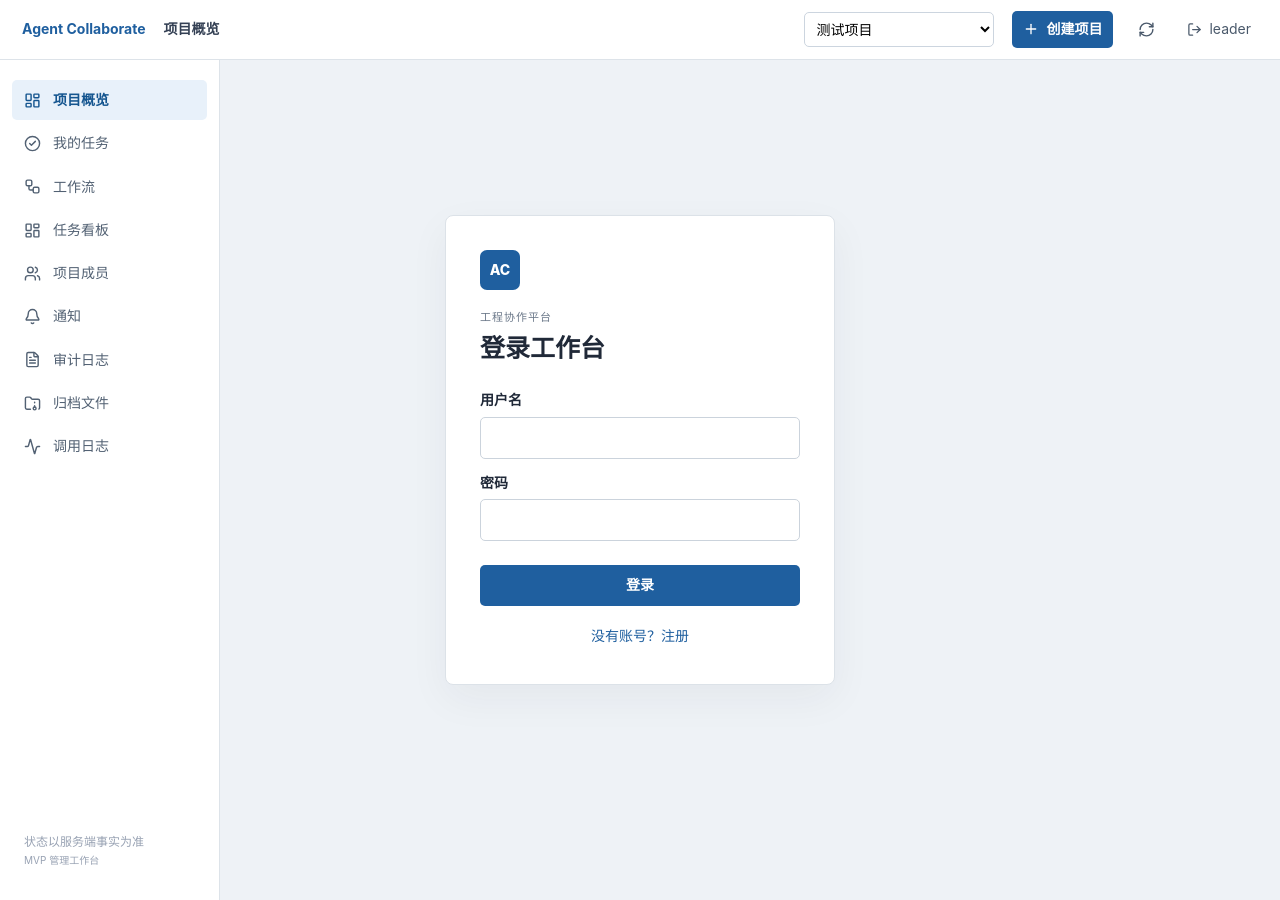
project-scoped navigation › creates a root workflow with a read-only empty parent Intent
The image size is (1280, 900).
Step 1. Click the button "工作流" → (110, 187), box [12,167,207,207]
(page scrolled)
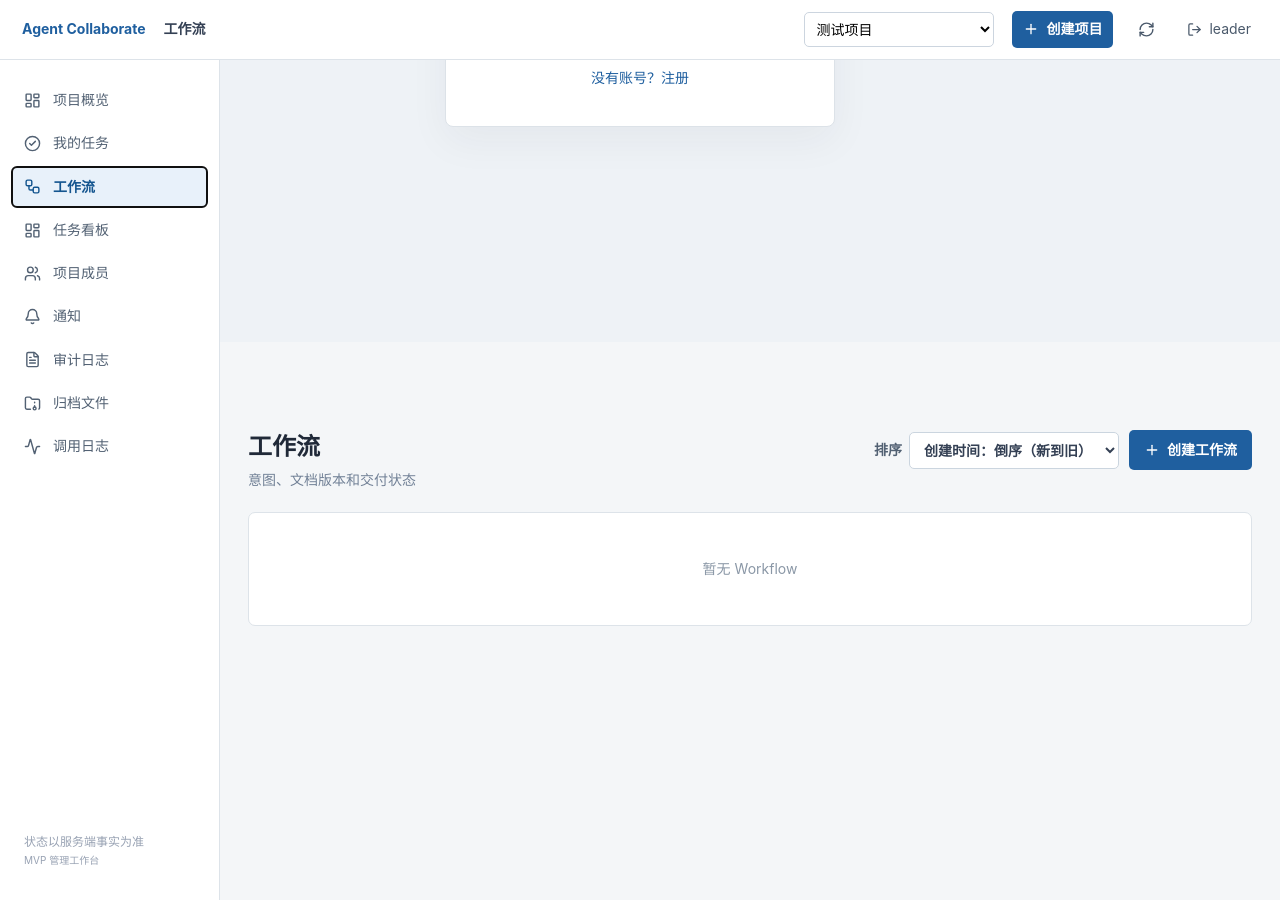
Step 2. Click the button "创建工作流" → (1190, 450), box [1129,430,1252,470]
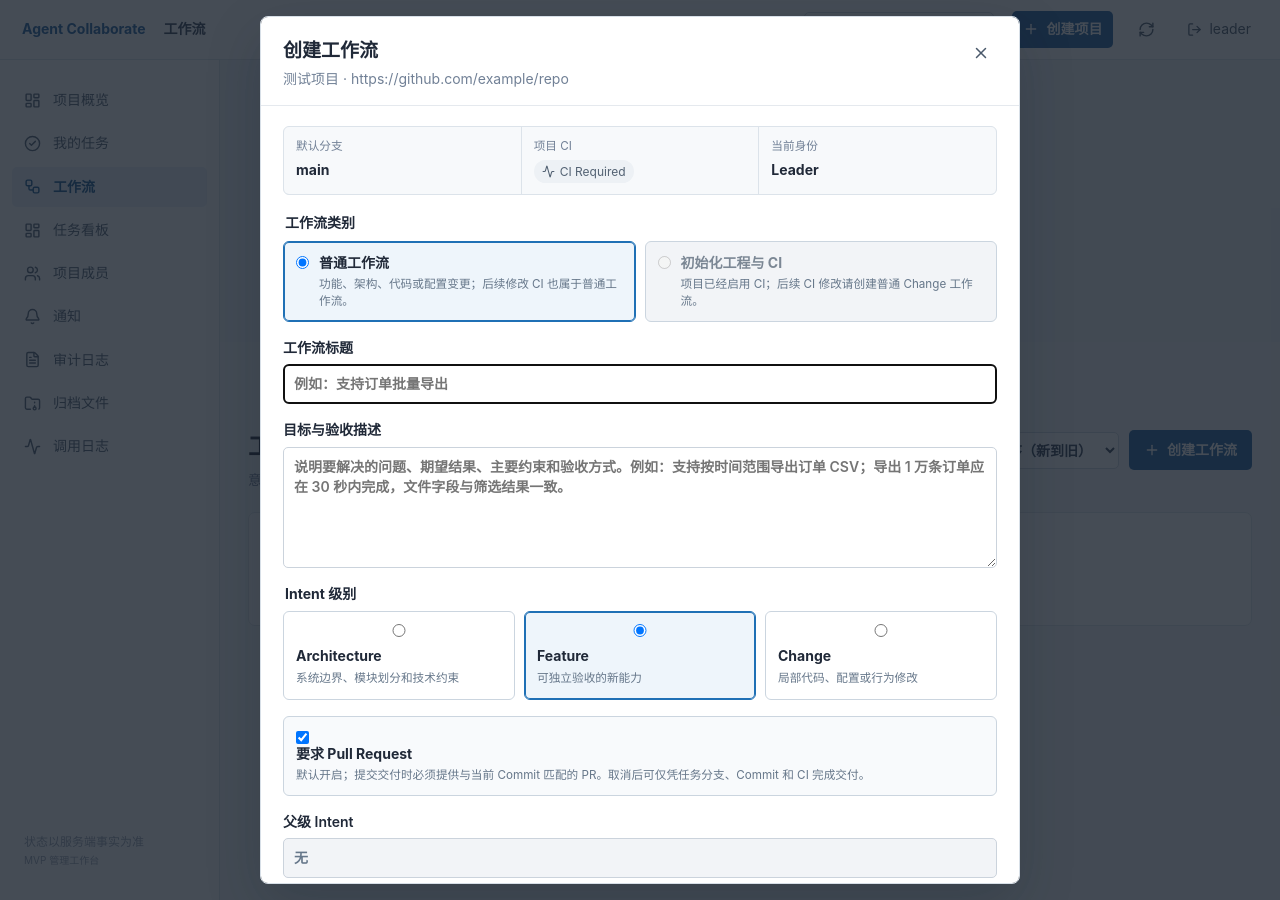
Result: the field labelled "父级 Intent" holds "无" at [283,838,997,878]
Step 3. Click the radio button labelled "Architecture 系统边界、模块划分和技术约束" → (399, 631), box [296,624,502,637]
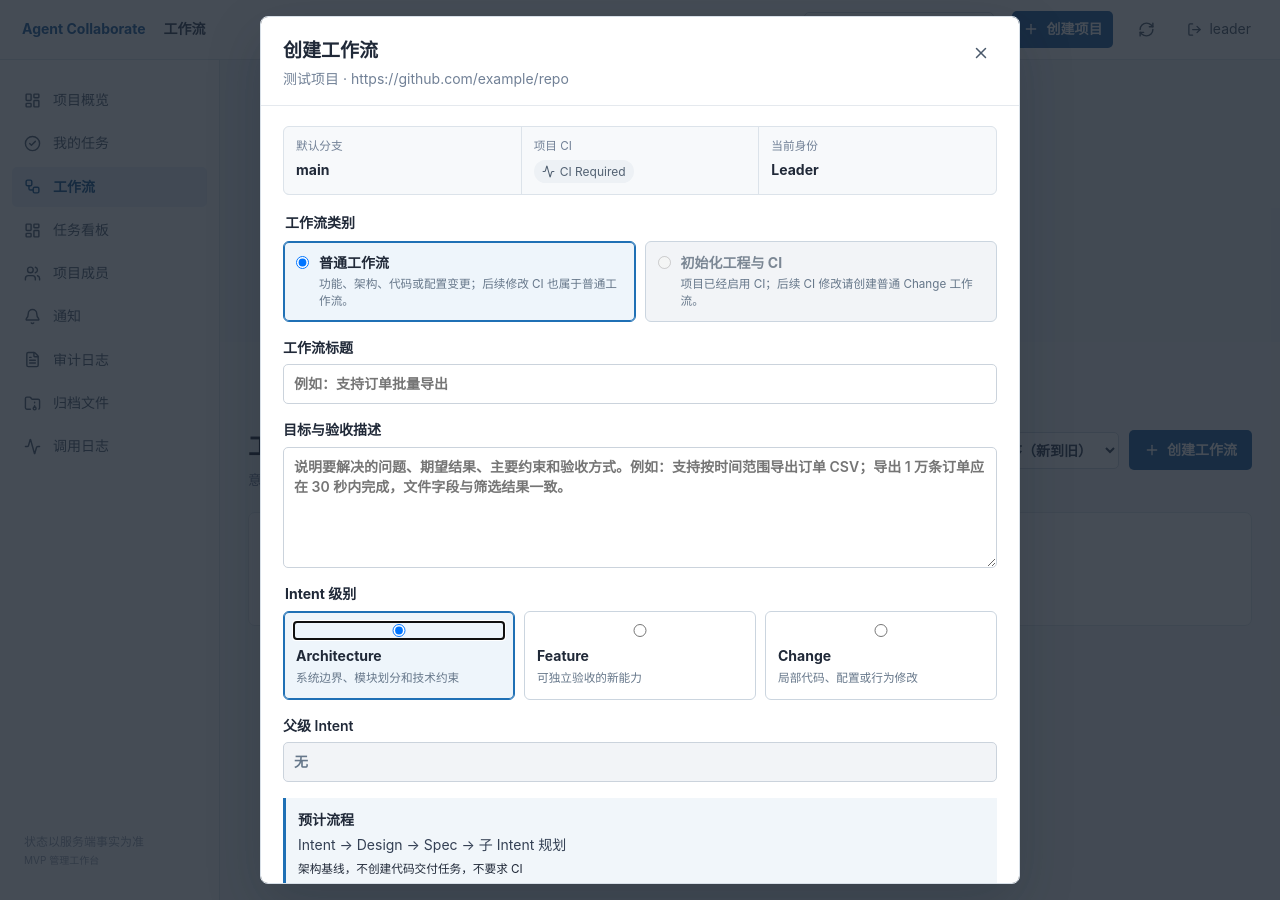
Result: the text "要求 Pull Request" is gone
Step 4. Type "服务边界设计" into the field labelled "工作流标题" → (640, 384), box [283,364,997,404]
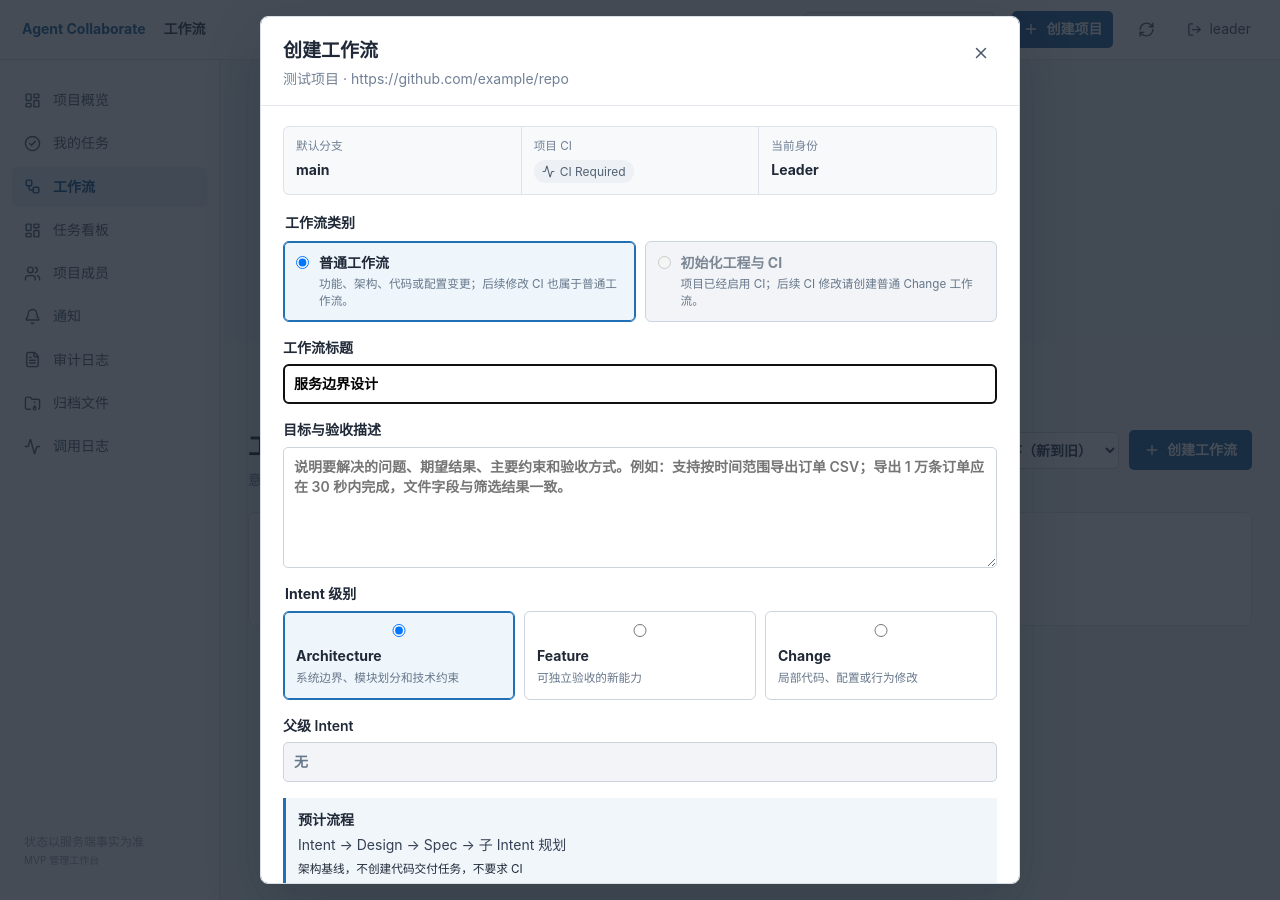
Step 5. Type "明确服务边界和验收约束" into the text box labelled "目标与验收描述" → (640, 507), box [283,447,997,568]
(page scrolled)
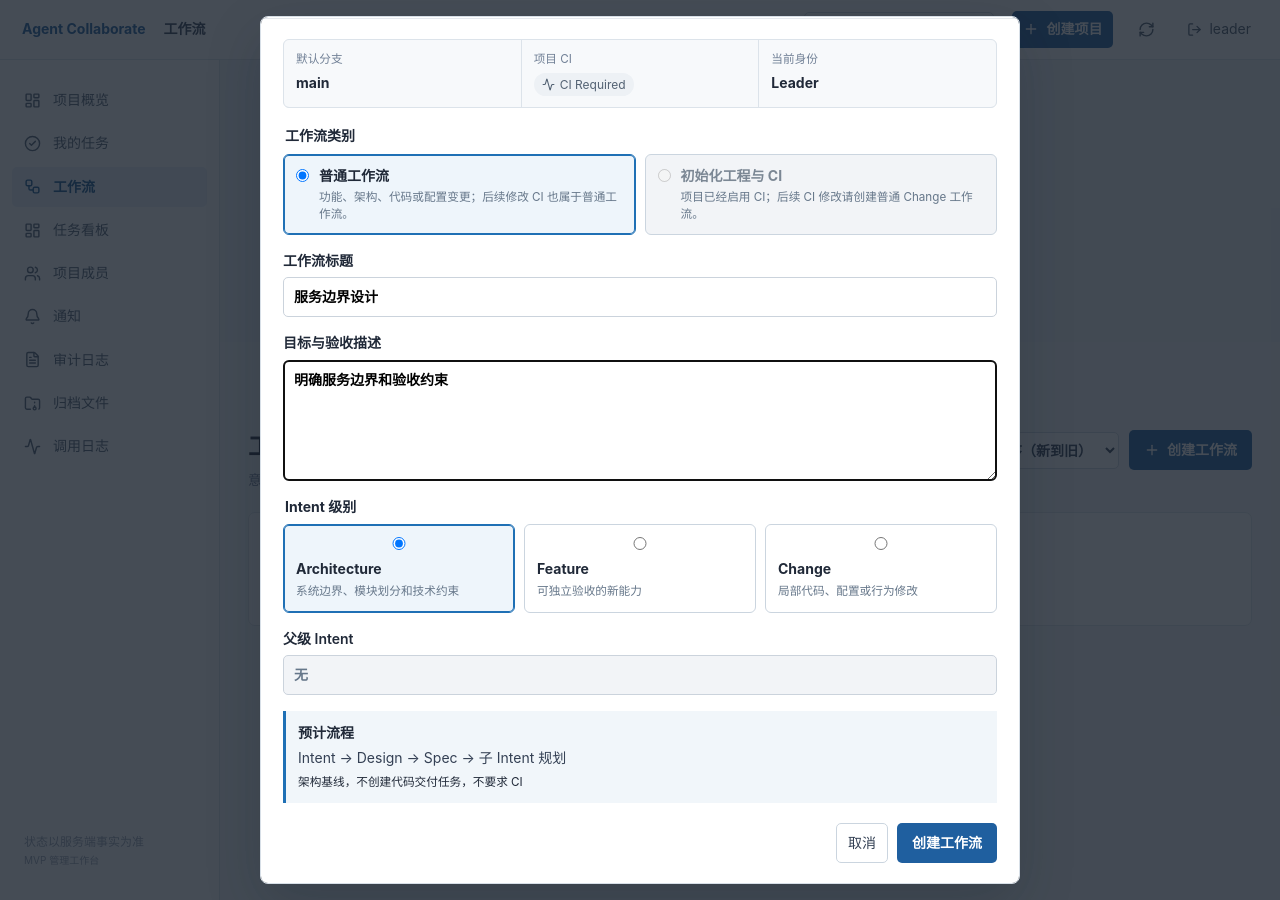
Step 6. Click the button "创建工作流" → (947, 843), box [897,823,997,863]
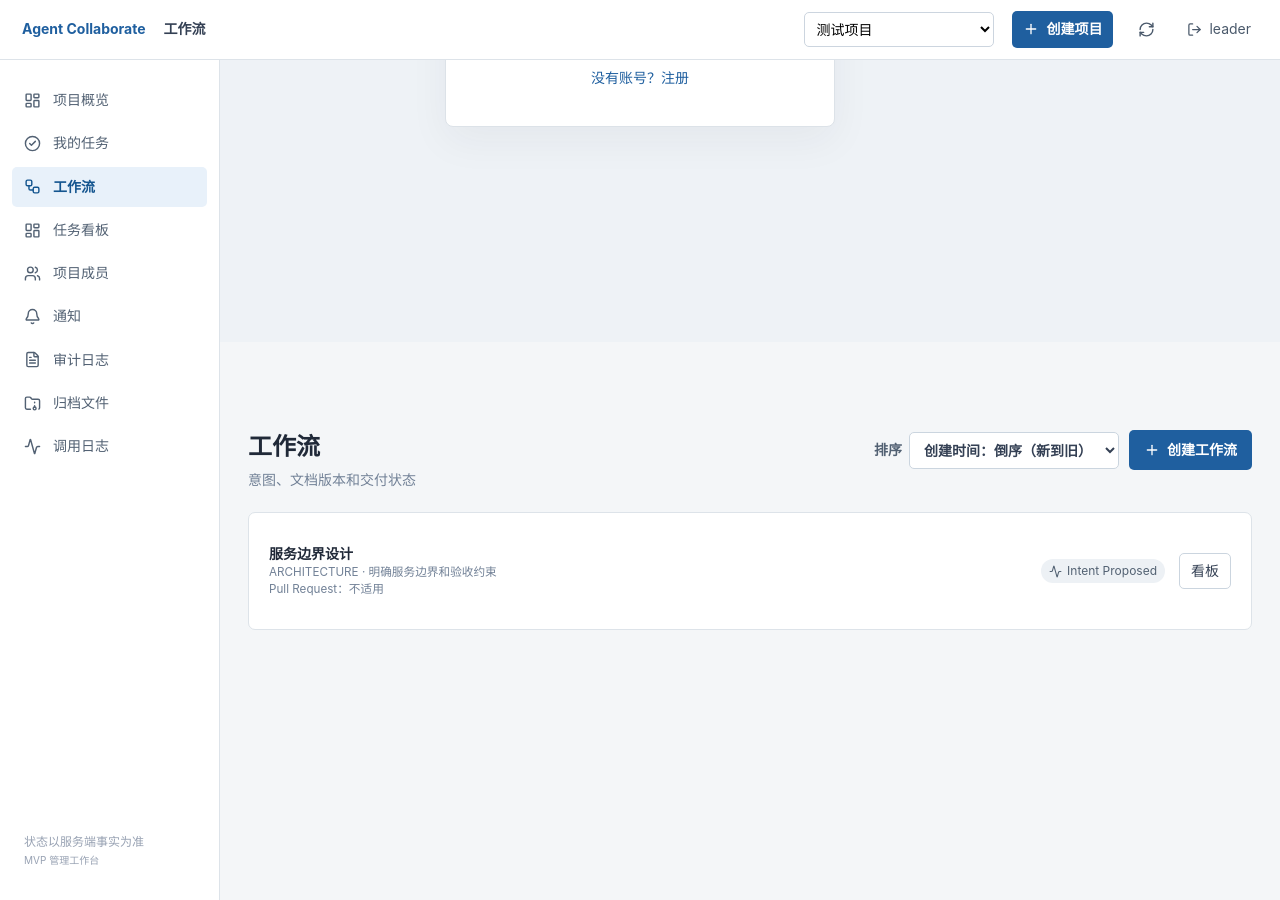
Result: the text "服务边界设计" is shown at [269,545,353,562]
